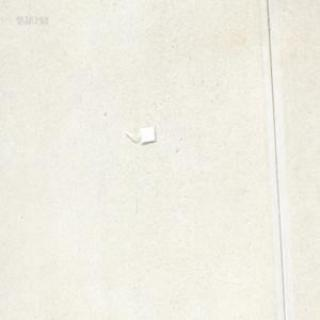LuggageTagtrack_idkeyframe: (123, 125, 155, 144)
